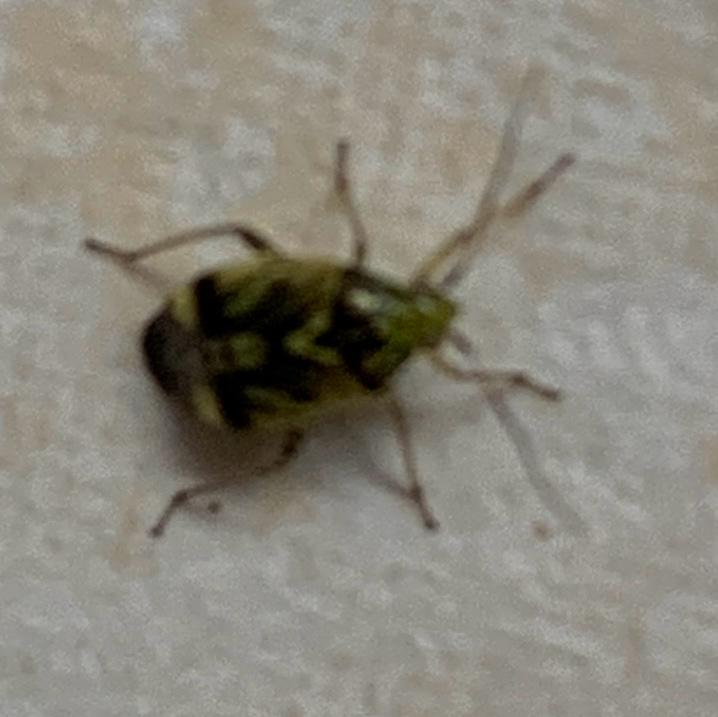plant_bugs: (0, 47, 707, 616)
